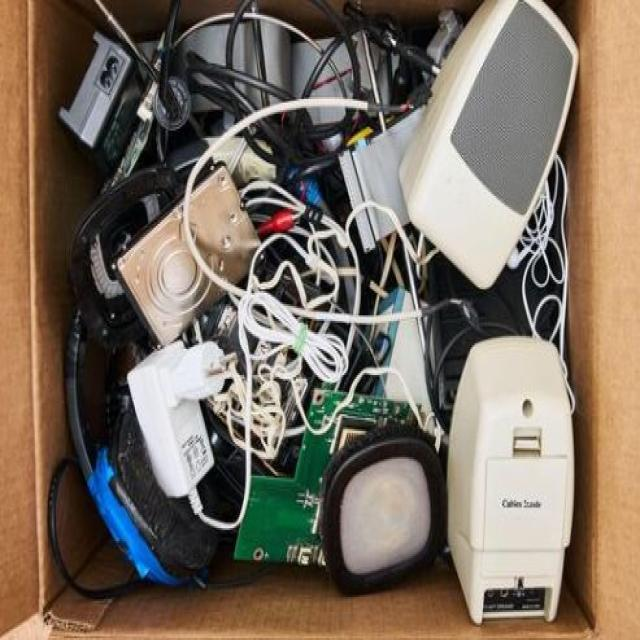electronic: (48, 0, 582, 625)
